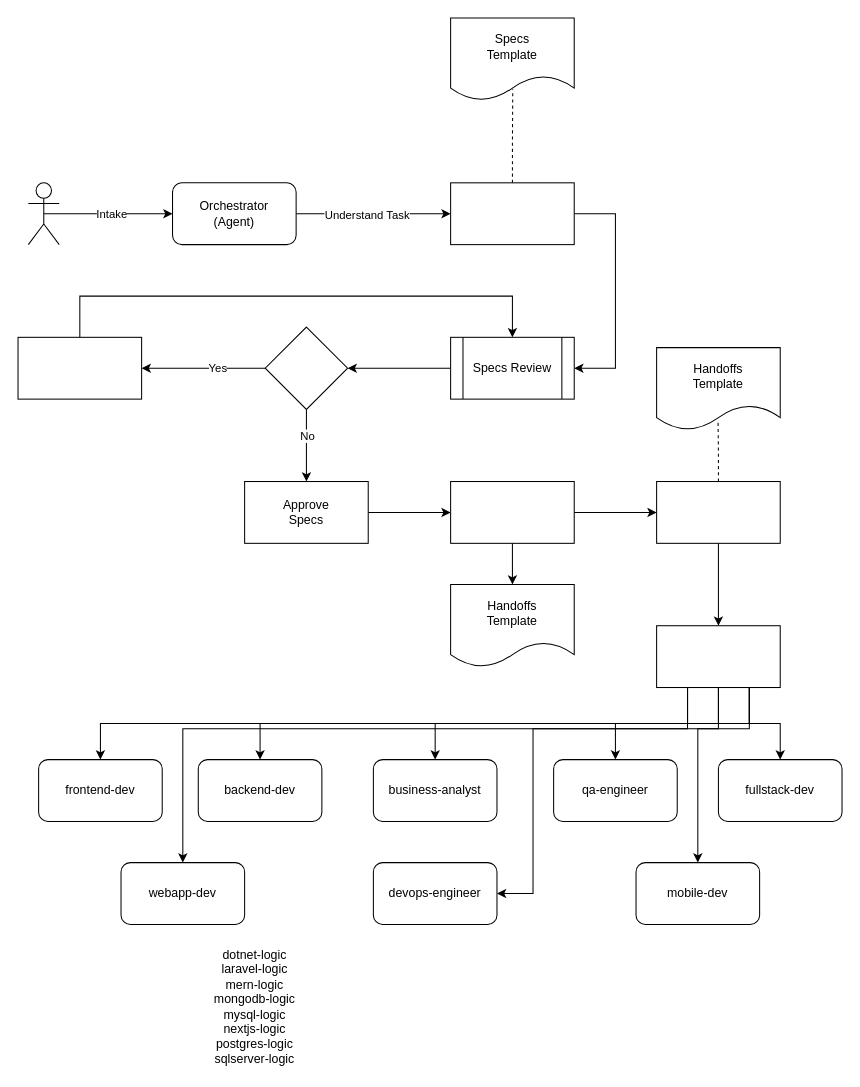
Image size: 860x1087. Some labels were removed from this diagram. Each missing label, with the centre of its shape:
"Delegate Task to Agents" belongs at [718,656].
"Generate Handoff Documents" belongs at [718,511].
"Generate Specs" belongs at [512,213].
"Open Questions ?" belongs at [306,367].
"Revise Specs" belongs at [79,367].
"User" belongs at [43,213].
"Write decisions" belongs at [512,511].
